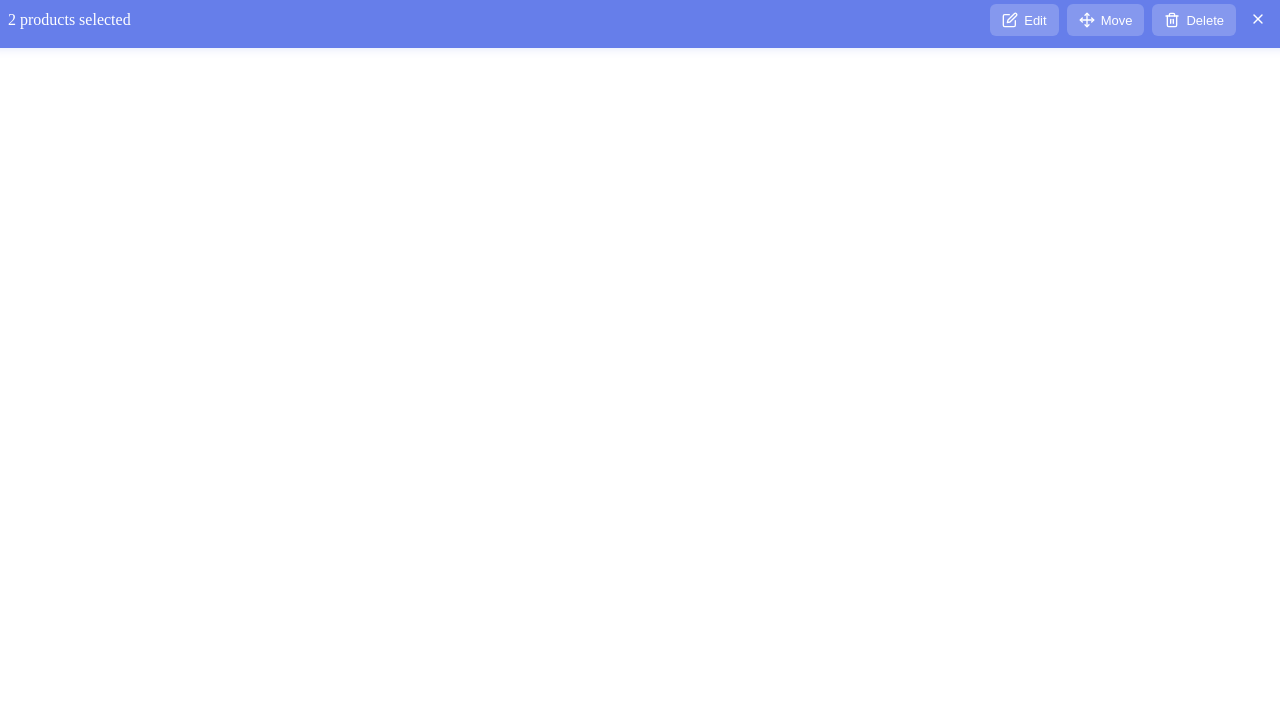
Test: BulkActionsToolbar › opens move modal when move button is clicked
The width and height of the screenshot is (1280, 720).
Click the button "Move".
click(1106, 20)  # box x1=1067 y1=4 x2=1144 y2=36
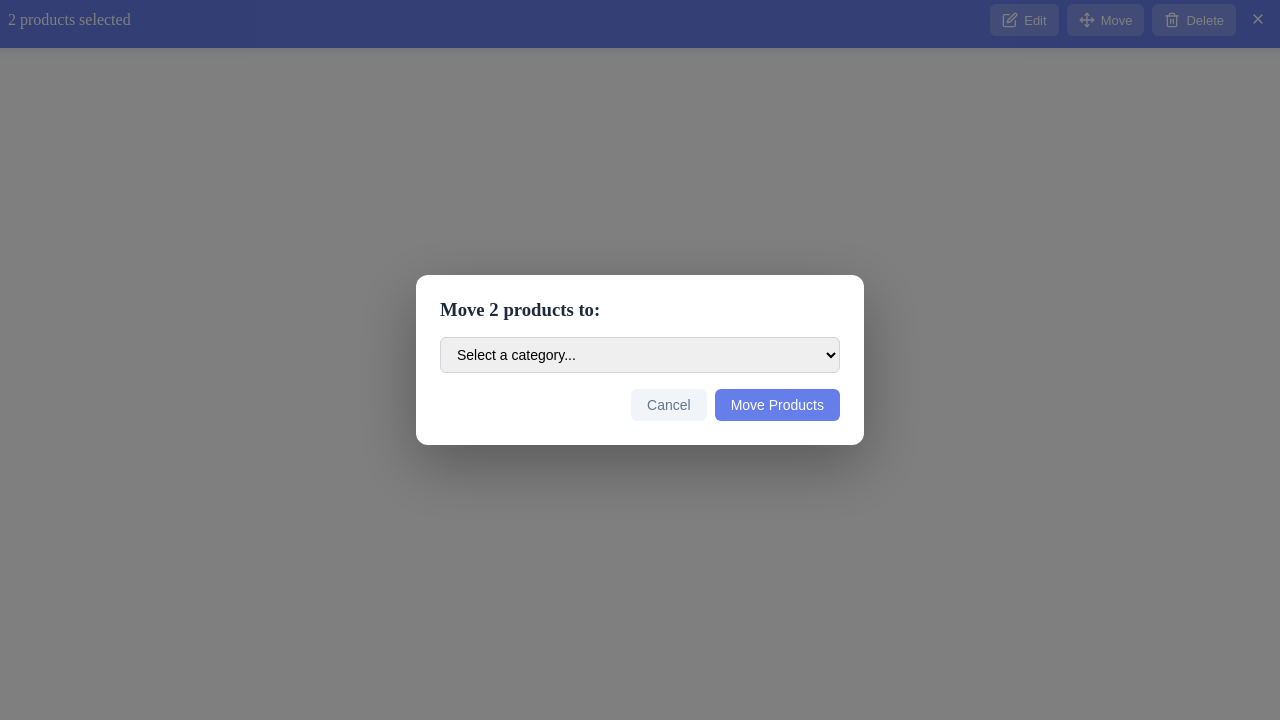
Check: the heading "Move 2 products to:" is shown, box x1=440 y1=299 x2=600 y2=320
